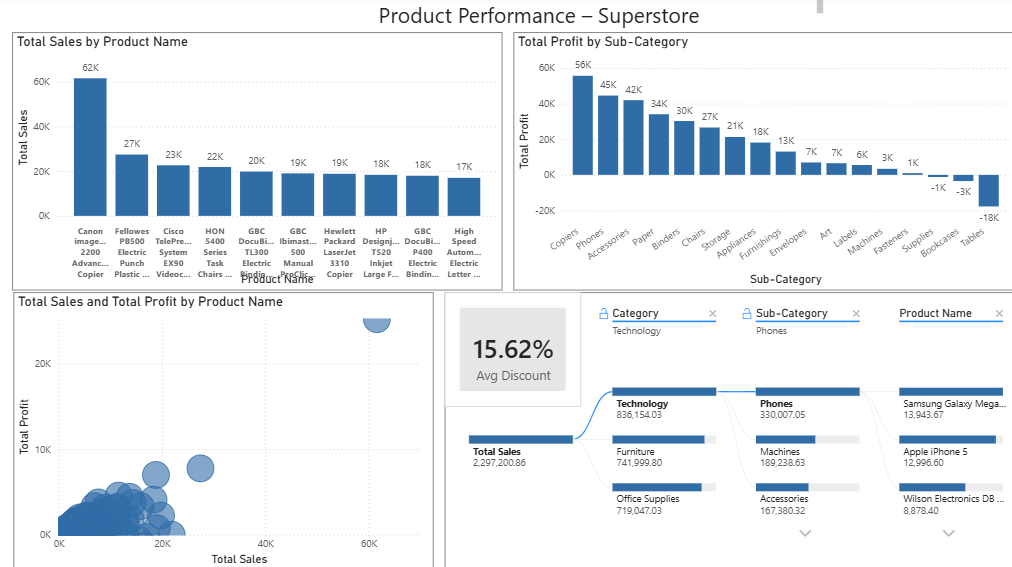

The dashboard page shown, as its layout file describes it:
{"tool":"powerbi","page":{"name":"Product Performance","canvas":[1280,720],"ordinal":1},"visuals":[{"type":"clusteredColumnChart","fields":{"Y":["FactSales.Total Sales"],"Category":["DimProduct.Product Name"]},"box":[20.3,45,615.5,323.7],"z":0},{"type":"clusteredColumnChart","fields":{"Category":["DimProduct.Sub-Category"],"Y":["FactSales.Total Profit"]},"box":[648.9,45,628.5,323.7],"z":1000},{"type":"scatterChart","fields":{"X":["FactSales.Total Sales"],"Y":["FactSales.Total Profit"],"Category":["DimProduct.Product Name"]},"box":[22.1,371.6,527,348.5],"z":2000},{"type":"decompositionTreeVisual","fields":{"Analyze":["FactSales.Total Sales"],"ExplainBy":["DimProduct.Category","DimProduct.Sub-Category","DimProduct.Product Name"]},"box":[563.8,371.6,714.1,348.5],"z":3000},{"type":"cardVisual","fields":{"Data":["FactSales.Avg Discount"]},"box":[563.2,371.6,171.3,143.7],"z":4000},{"type":"textbox","box":[328.1,0,715.6,45],"z":5000}]}

Visuals, with their boxes in screenshot pixels (x1, y1, x2, y2), scaled from the page's 1280x720 canvas onto the 1012x567 screenshot:
clusteredColumnChart - FactSales.Total Sales x DimProduct.Product Name: left=16, top=35, right=503, bottom=290
clusteredColumnChart - DimProduct.Sub-Category x FactSales.Total Profit: left=513, top=35, right=1010, bottom=290
scatterChart - FactSales.Total Sales x FactSales.Total Profit: left=17, top=293, right=434, bottom=566
decompositionTreeVisual - FactSales.Total Sales x DimProduct.Category: left=446, top=293, right=1010, bottom=566
cardVisual - FactSales.Avg Discount: left=445, top=293, right=581, bottom=406
textbox: left=259, top=0, right=825, bottom=35
